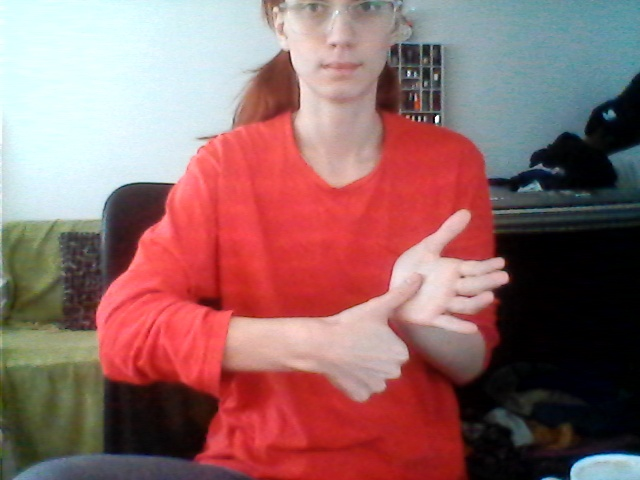pivo: (321, 203, 517, 421)
